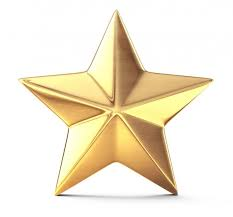star: (17, 6, 216, 199)
